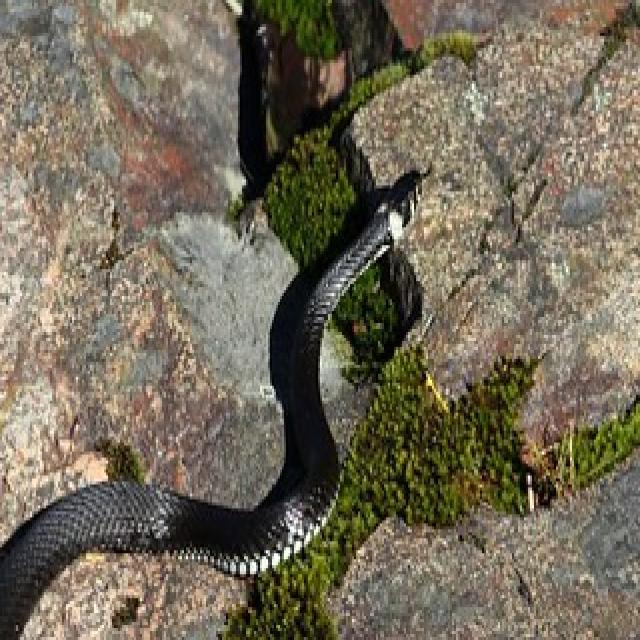Snake: (0, 155, 426, 640)
